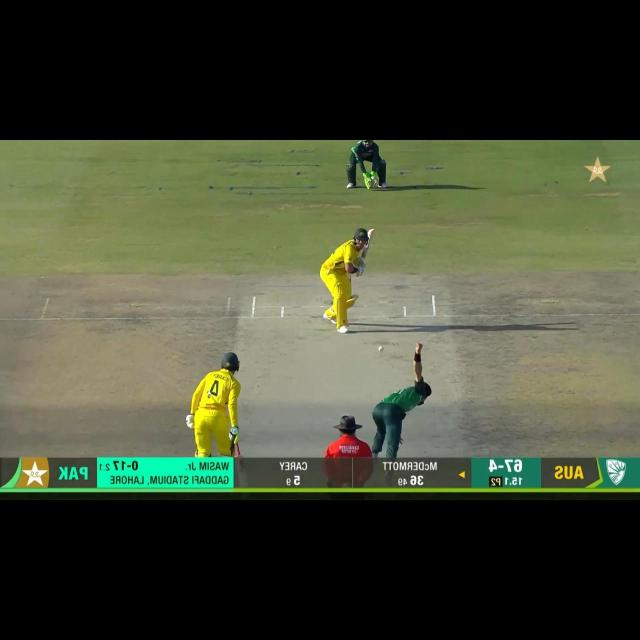bat: (361, 226, 376, 258)
toe: (367, 226, 376, 235)
